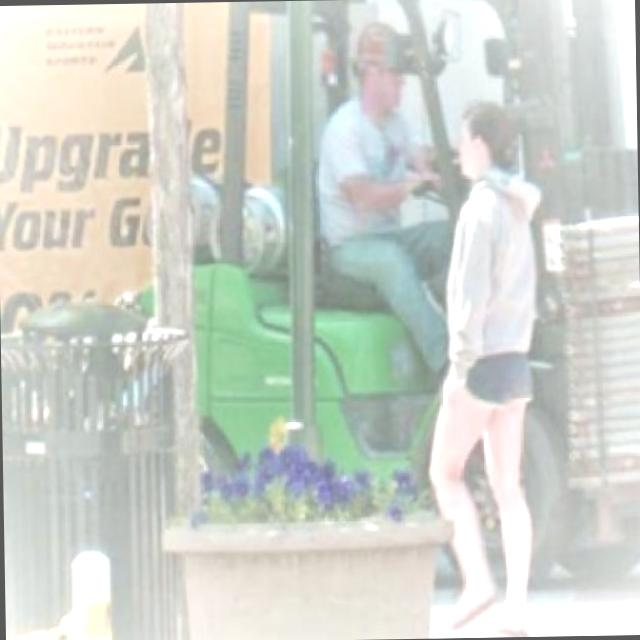Person: (426, 98, 552, 636), (315, 52, 452, 374)
